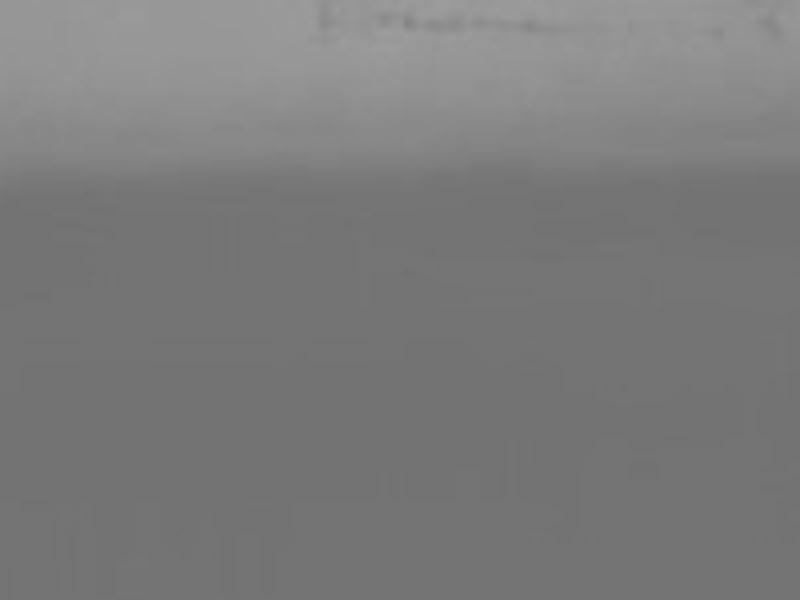defect: (315, 1, 344, 34), (757, 11, 783, 40), (518, 14, 544, 38), (374, 9, 396, 30), (447, 13, 468, 33), (468, 14, 489, 33), (422, 15, 442, 33), (401, 12, 418, 33)
